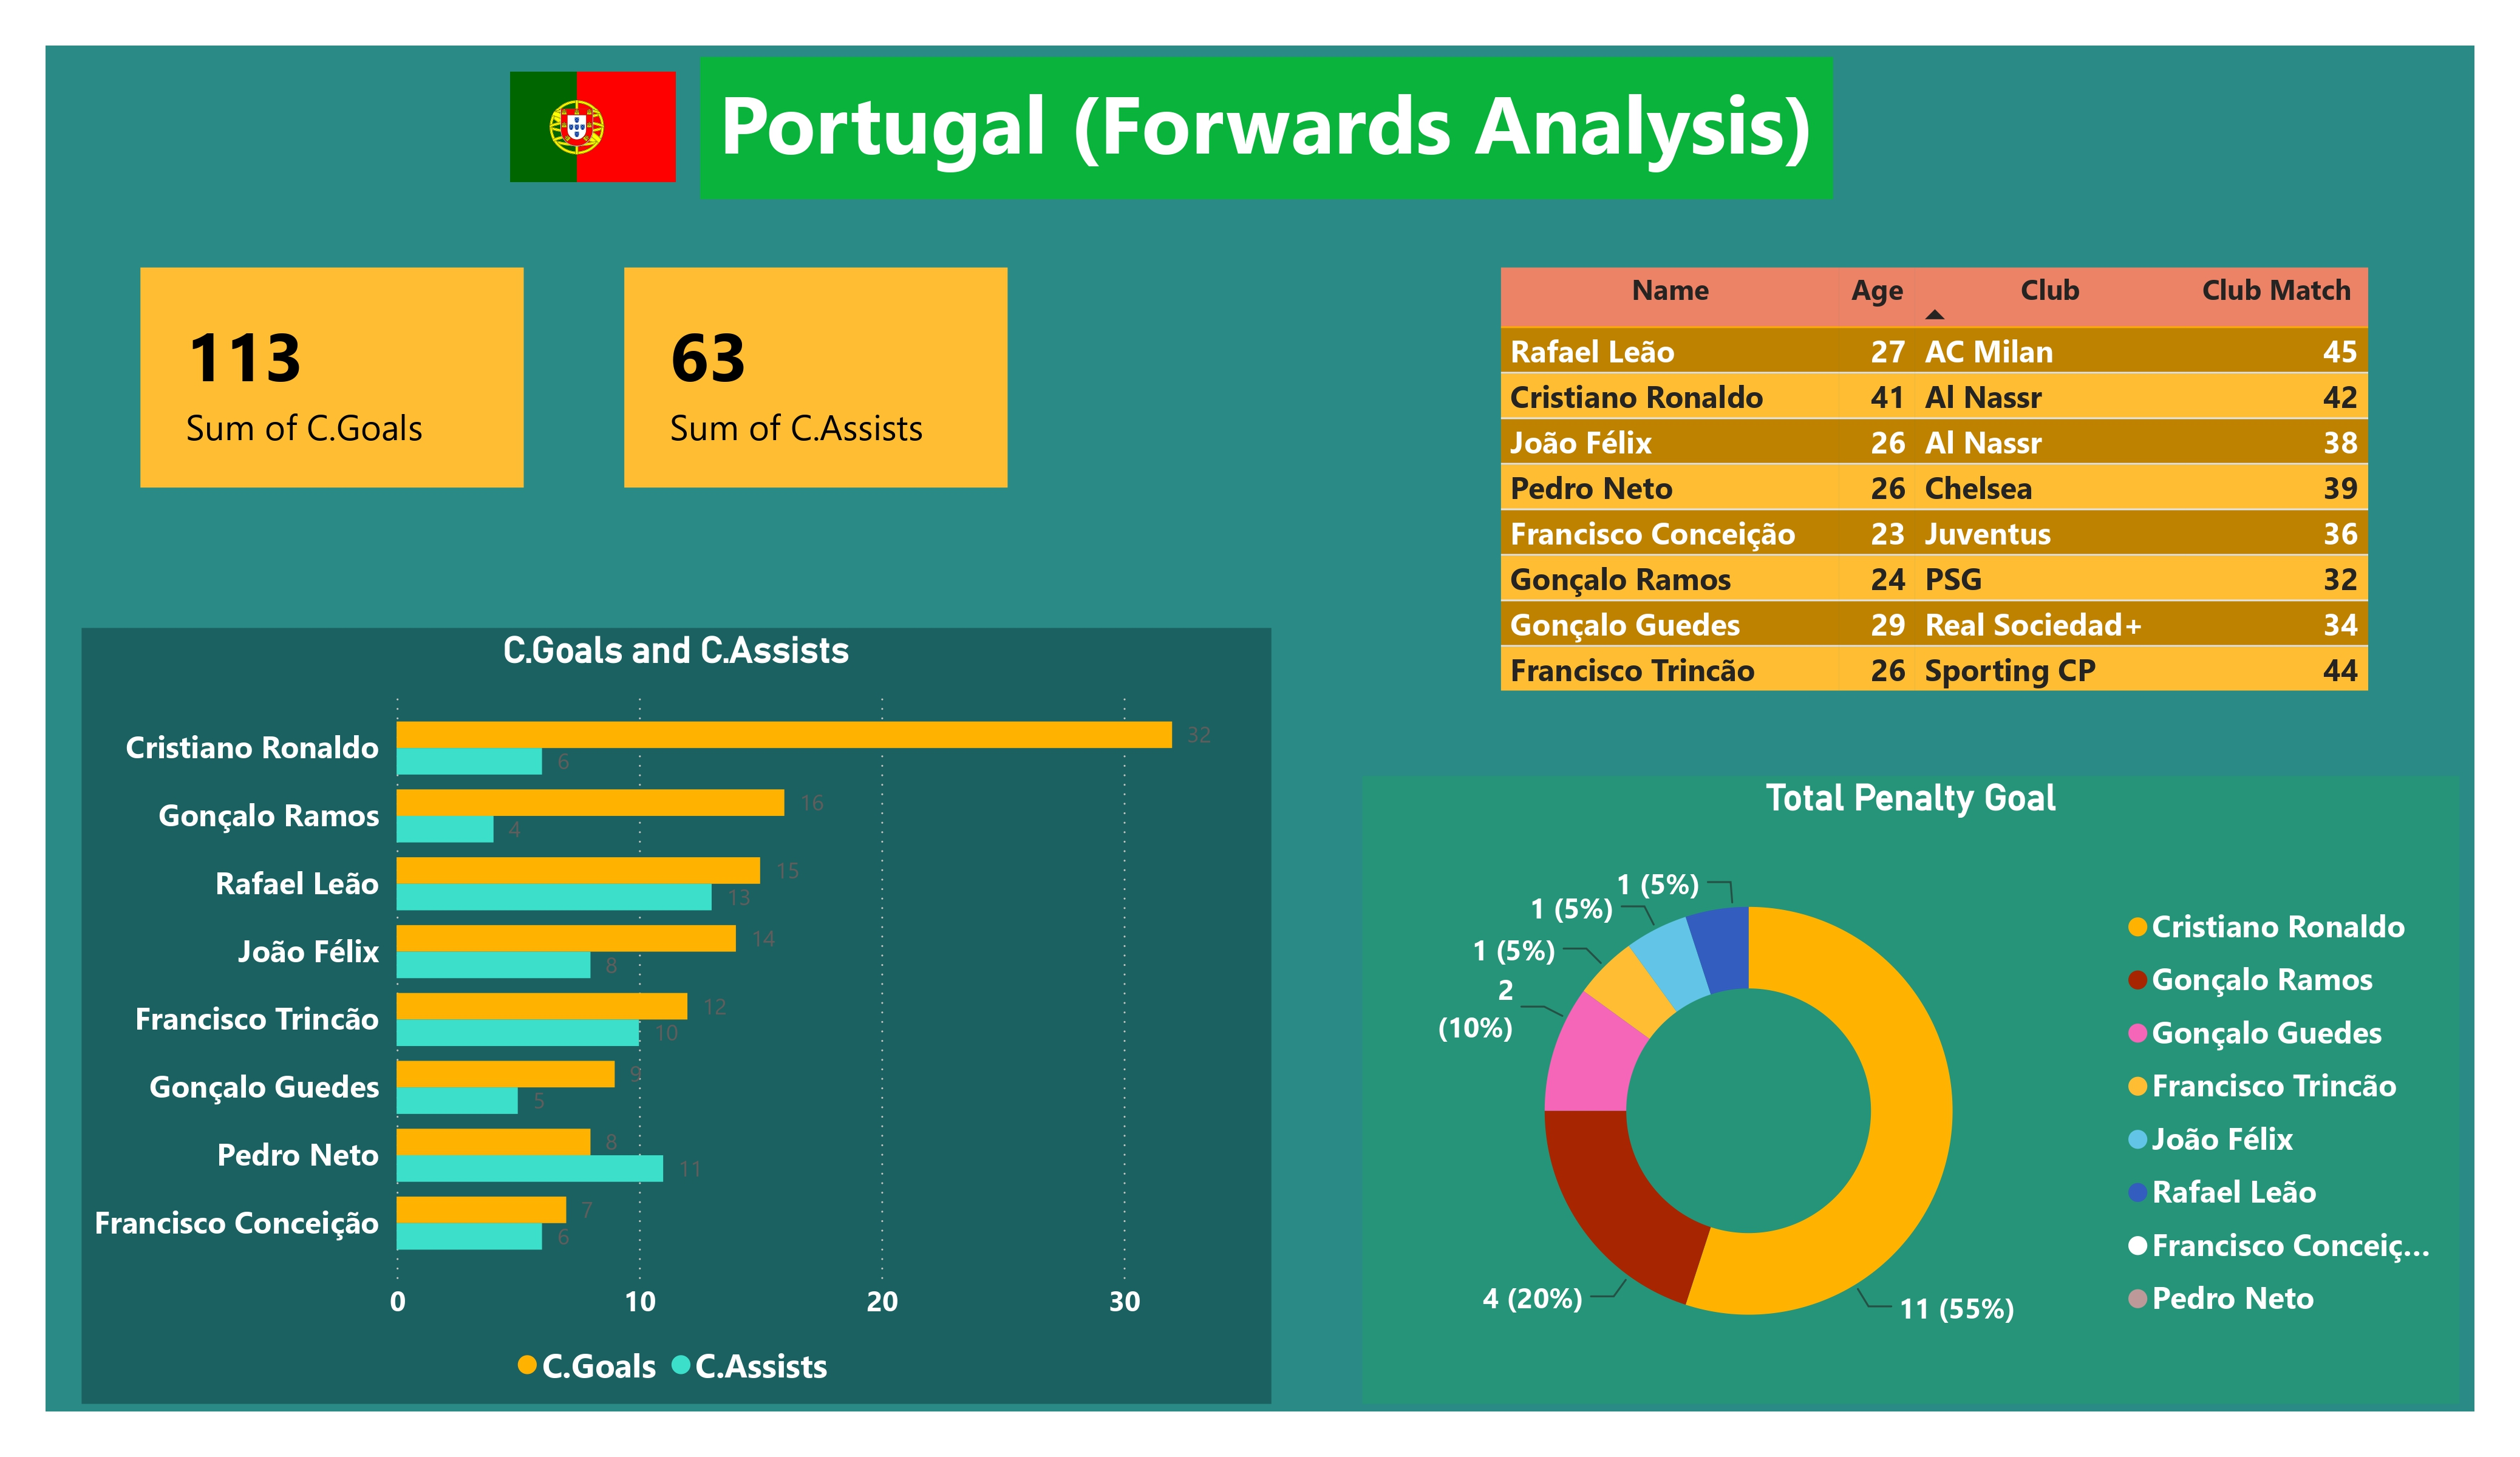

The dashboard page shown, as its layout file describes it:
{"tool":"powerbi","page":{"name":"Fowards","canvas":[1280,720],"ordinal":0},"visuals":[{"type":"slicer","fields":{"Values":["Sheet1.Position"]},"box":[995.9,522.4,246.5,181.2],"z":0},{"type":"clusteredBarChart","title":"C.Goals and C.Assists ","fields":{"Category":["Sheet1.Name"],"Y":["Sum(Sheet1.C.Goals)","Sum(Sheet1.C.Assists)"]},"box":[18.7,306.6,627.2,409.2],"z":1000},{"type":"cardVisual","fields":{"Data":["Sum(Sheet1.C.Goals)"]},"box":[45,111.7,211.7,126.7],"z":2000},{"type":"cardVisual","fields":{"Data":["Sum(Sheet1.C.Assists)"]},"box":[300,111.7,211.7,126.7],"z":3000},{"type":"donutChart","title":"Total Penalty Goal ","fields":{"Category":["Sheet1.Name"],"Y":["Sum(Sheet1.Total Penalty Goal)"]},"box":[693.6,384.6,578.5,331],"z":4000},{"type":"tableEx","fields":{"Values":["Sheet1.Name","Sheet1.Age","Sheet1.Club","Sheet1.Club Match"]},"box":[761.2,111.9,471,235.5],"z":5000},{"type":"textbox","box":[345.1,6,596.9,74.6],"z":6000},{"type":"image","box":[232,14.2,113.1,58.3],"z":7000}]}

Visuals, with their boxes on the page's 1280x720 design canvas (x1, y1, x2, y2). These are canvas units, not pixel positions in the 2520x1457 screenshot, which may show the page scaled, cropped or inside an application window:
slicer - Sheet1.Position: 996,522,1242,704
"C.Goals and C.Assists " clusteredBarChart: 19,307,646,716
cardVisual - Sum(Sheet1.C.Goals): 45,112,257,238
cardVisual - Sum(Sheet1.C.Assists): 300,112,512,238
"Total Penalty Goal " donutChart: 694,385,1272,716
tableEx - Sheet1.Name x Sheet1.Age: 761,112,1232,347
textbox: 345,6,942,81
image: 232,14,345,72
